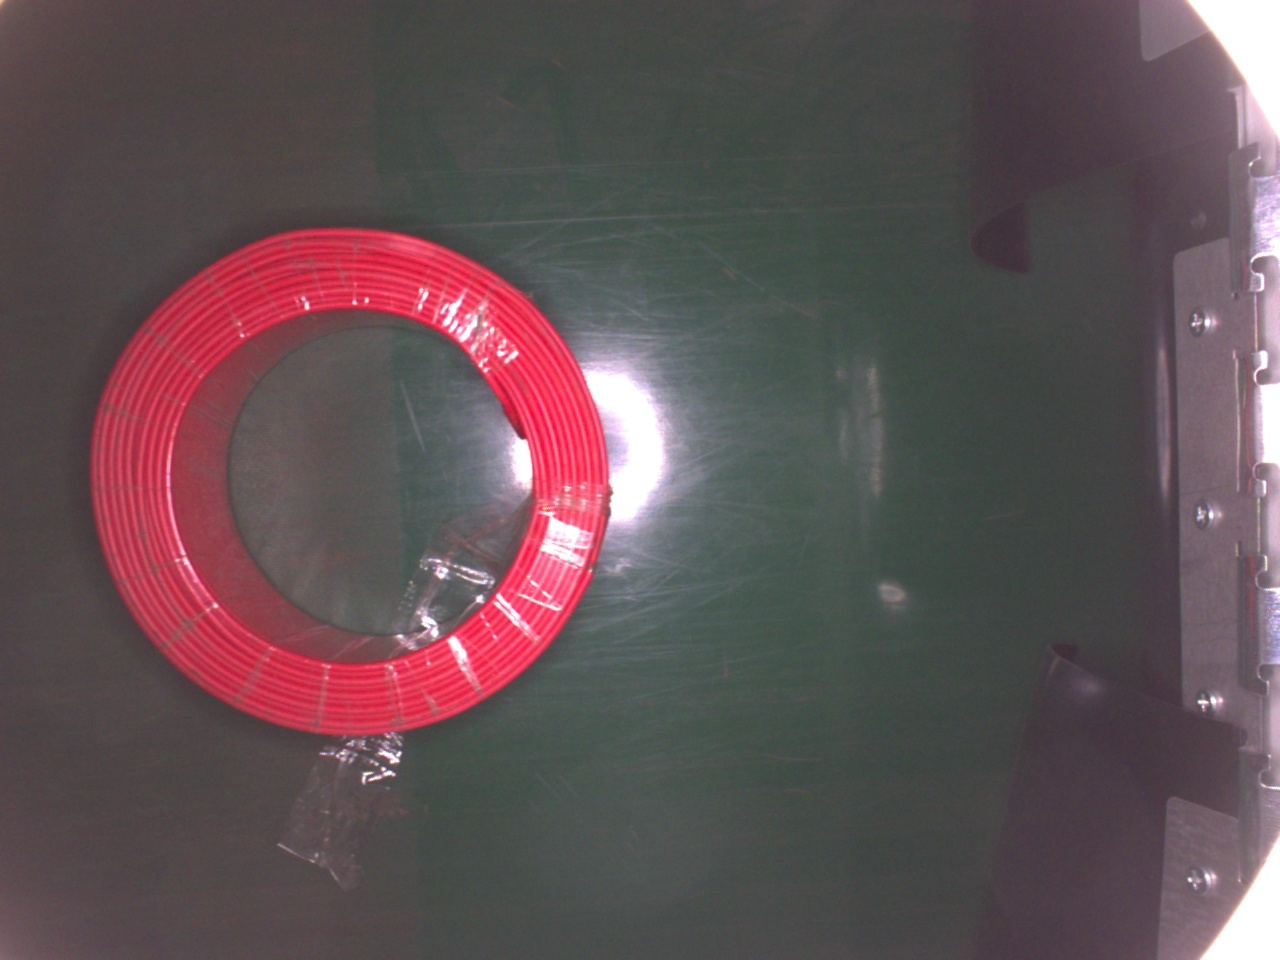red: (91, 224, 601, 736)
